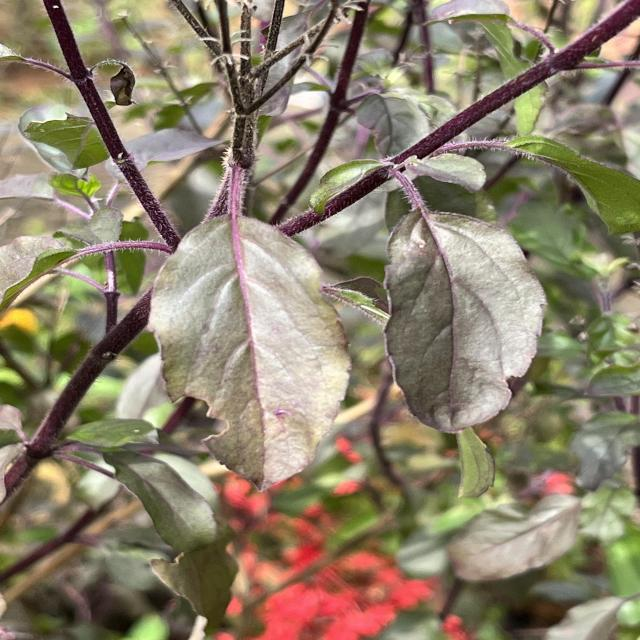Ocimum tenuiflorum: (146, 212, 355, 496), (382, 206, 550, 437)
